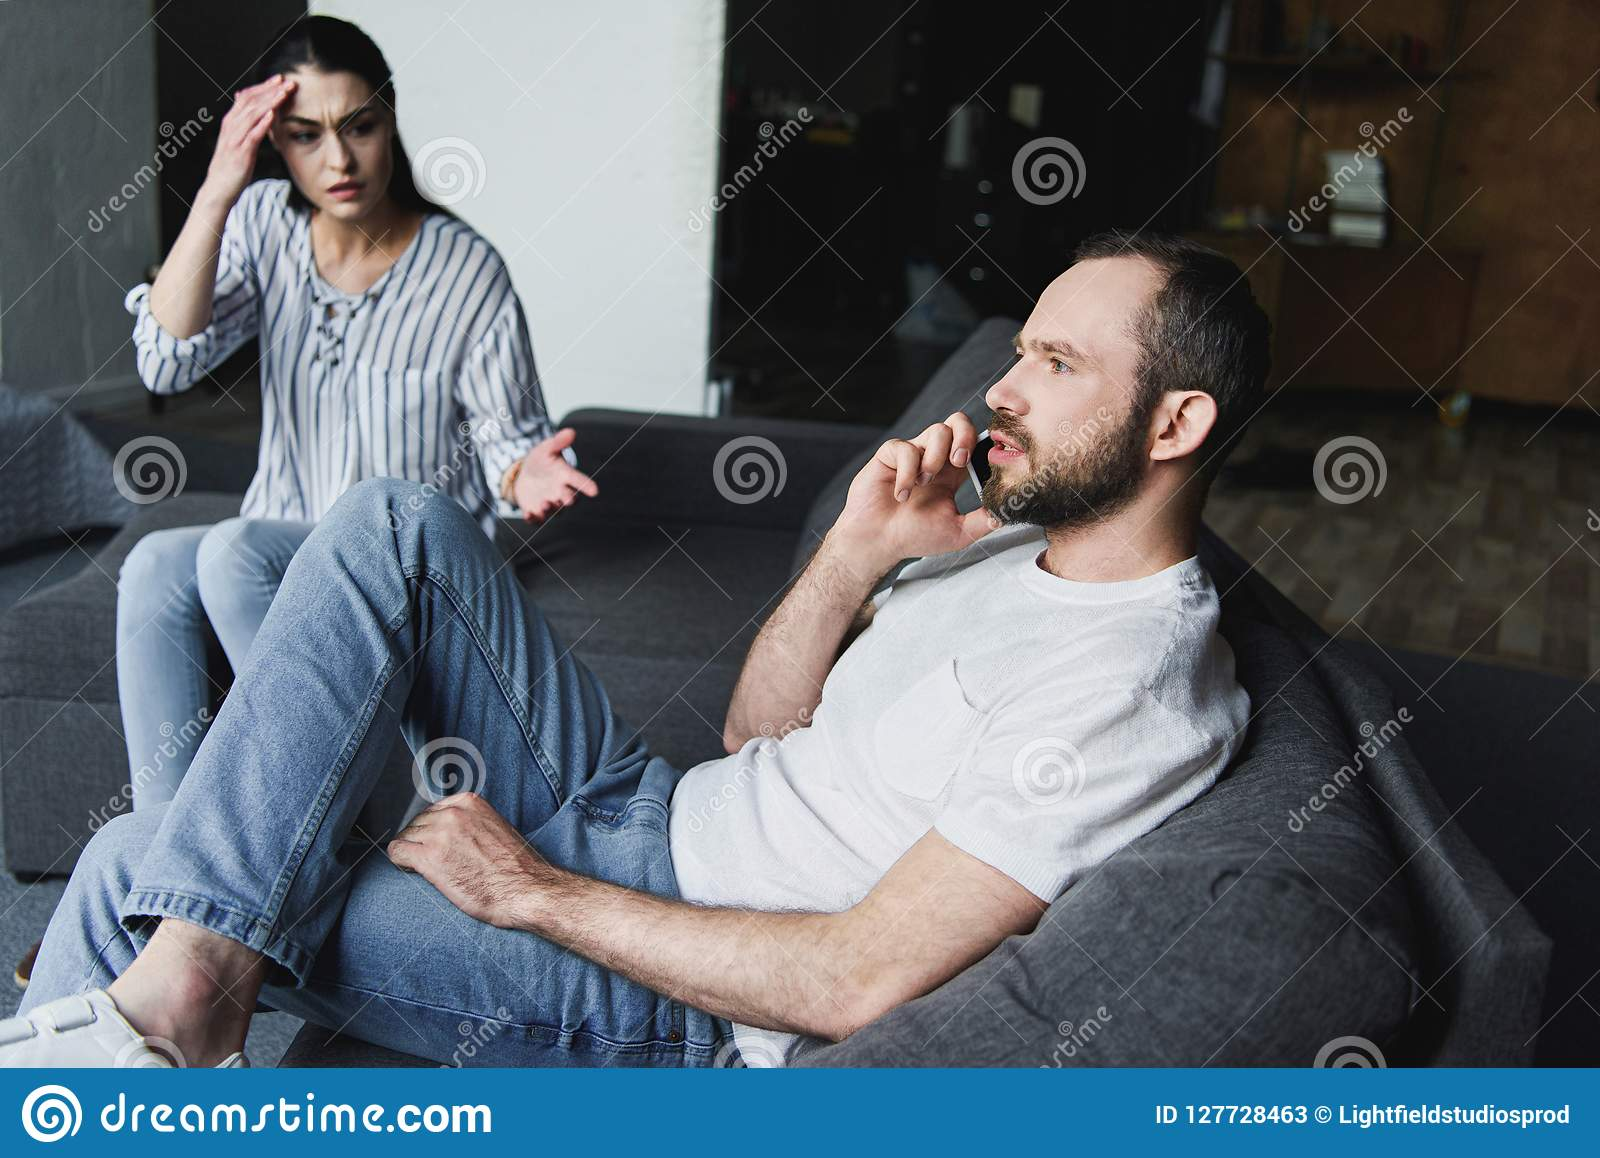talk: (826, 322, 1109, 562)
